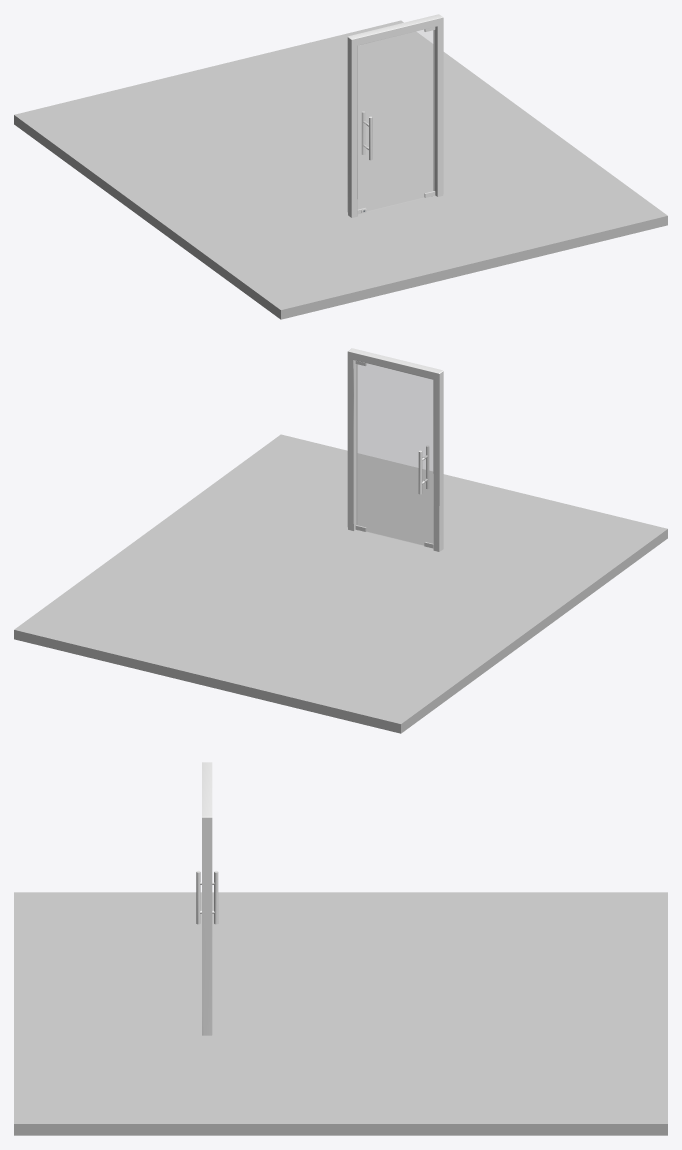
Rendered from glass_door.glb.
3 renders of one model, top to bottom at view 1: azimuth 30°, elevation 25°; view 2: azimuth 150°, elevation 25°; view 3: azimuth 270°, elevation 25°, orthographic. The views are drawn at different scales.
Visible parts, largest first — view 1: Box_7, Box_10, Box_16; view 2: Box_7, Box_10, Box_16; view 3: Box_7, Box_16.
Part boxes in pixels (<box>): Box_7: <box>14,20,667,319</box>; Box_10: <box>358,29,434,211</box>; Box_16: <box>347,14,443,217</box>; Box_7: <box>14,434,667,733</box>; Box_10: <box>356,363,432,545</box>; Box_16: <box>347,348,443,551</box>; Box_7: <box>14,892,667,1135</box>; Box_16: <box>202,762,212,1035</box>.
Bounding box in the file's own units: 4.92 × 2.28 × 5.88.
Materials: 15 (1 with a texture image).
